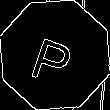P_N: (29, 25, 81, 85)
